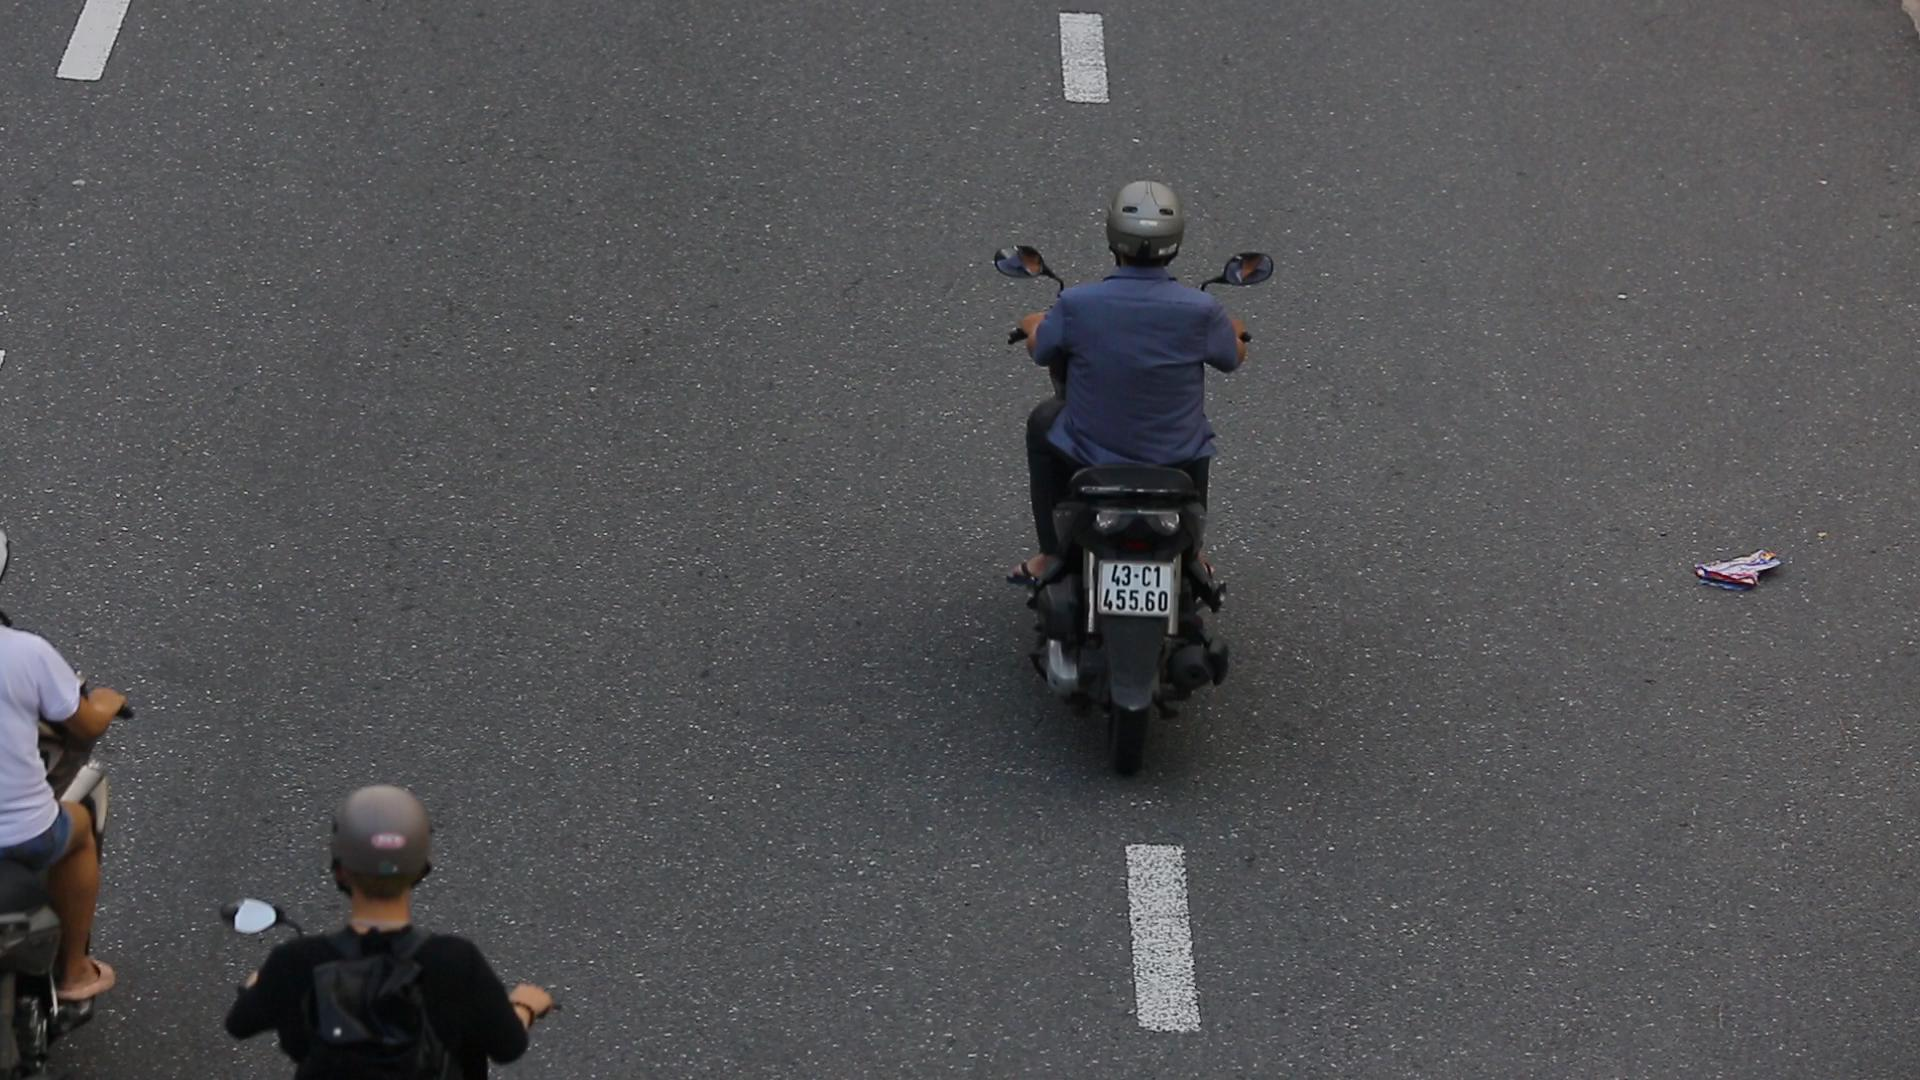motobike: (964, 133, 1276, 832)
